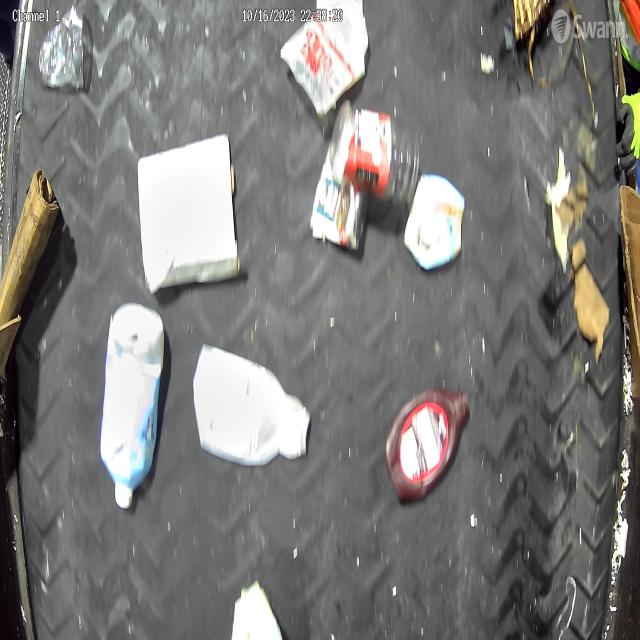can: (310, 139, 366, 249)
milk_jug: (192, 346, 311, 467)
non_white_jug: (100, 302, 165, 508), (386, 388, 468, 502)
